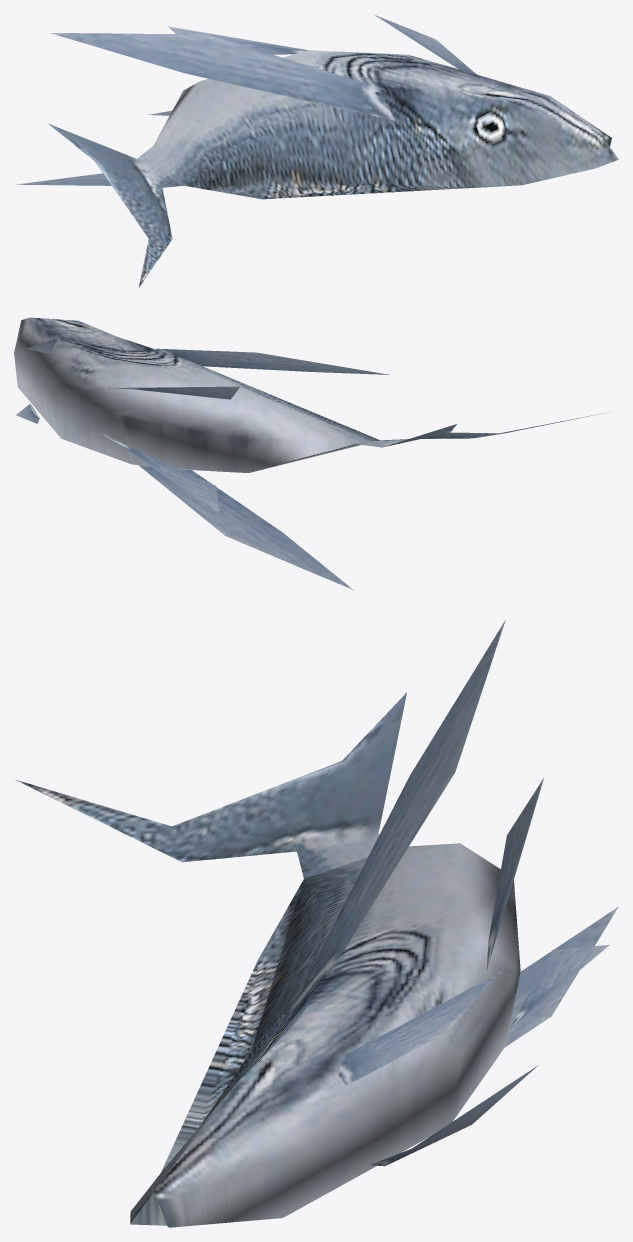
File: edb_food_fish_lg_s1_l1.fbx
3 views of the same model, one above another, from view 1: azimuth 30°, elevation 25°; view 2: azimuth 150°, elevation 25°; view 3: azimuth 270°, elevation 25° (orthographic). The views are drawn at different scales.
Parts seen in each view (by area): view 1: mesh_node; view 2: mesh_node; view 3: mesh_node.
Boxes of the visible parts, <box> form: mesh_node: <box>16,14,618,287</box>; mesh_node: <box>14,317,606,590</box>; mesh_node: <box>15,620,618,1227</box>.
Size of the model in its own units: 0.5313 by 0.1738 by 0.3319.
1 material, 1 textured.
